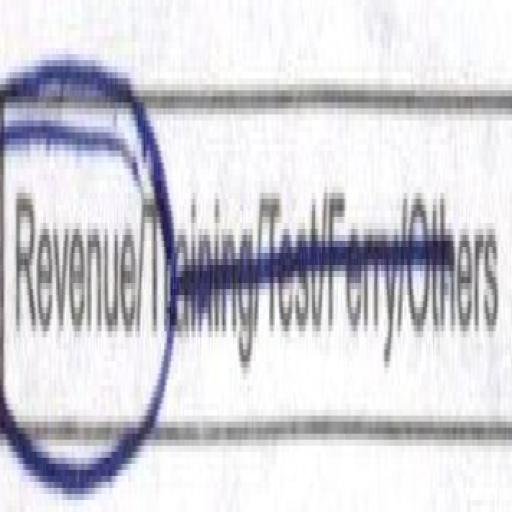check: (0, 6, 140, 512)
